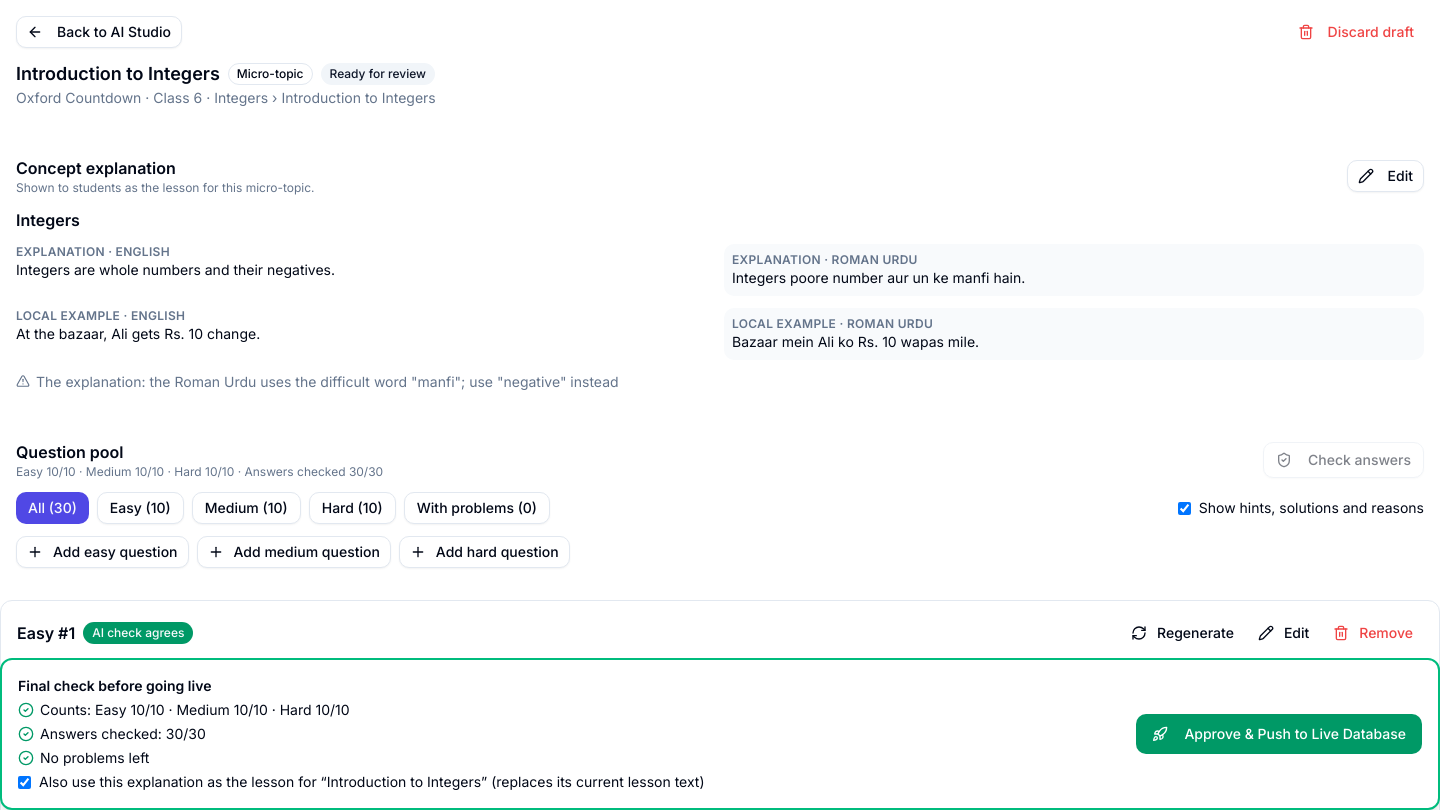
Test: AI draft review (Rule C) › unlocks approval only when every check passes, then pushes with the lesson choice
Expected: the button "Approve & Push to Live Database" is enabled, [1136, 714, 1422, 754]
Expected: the text "No problems left" is shown, [18, 749, 149, 766]
Click the checkbox labelled "Also use this explanation as the lesson": point(24, 782) [18, 776, 31, 788]
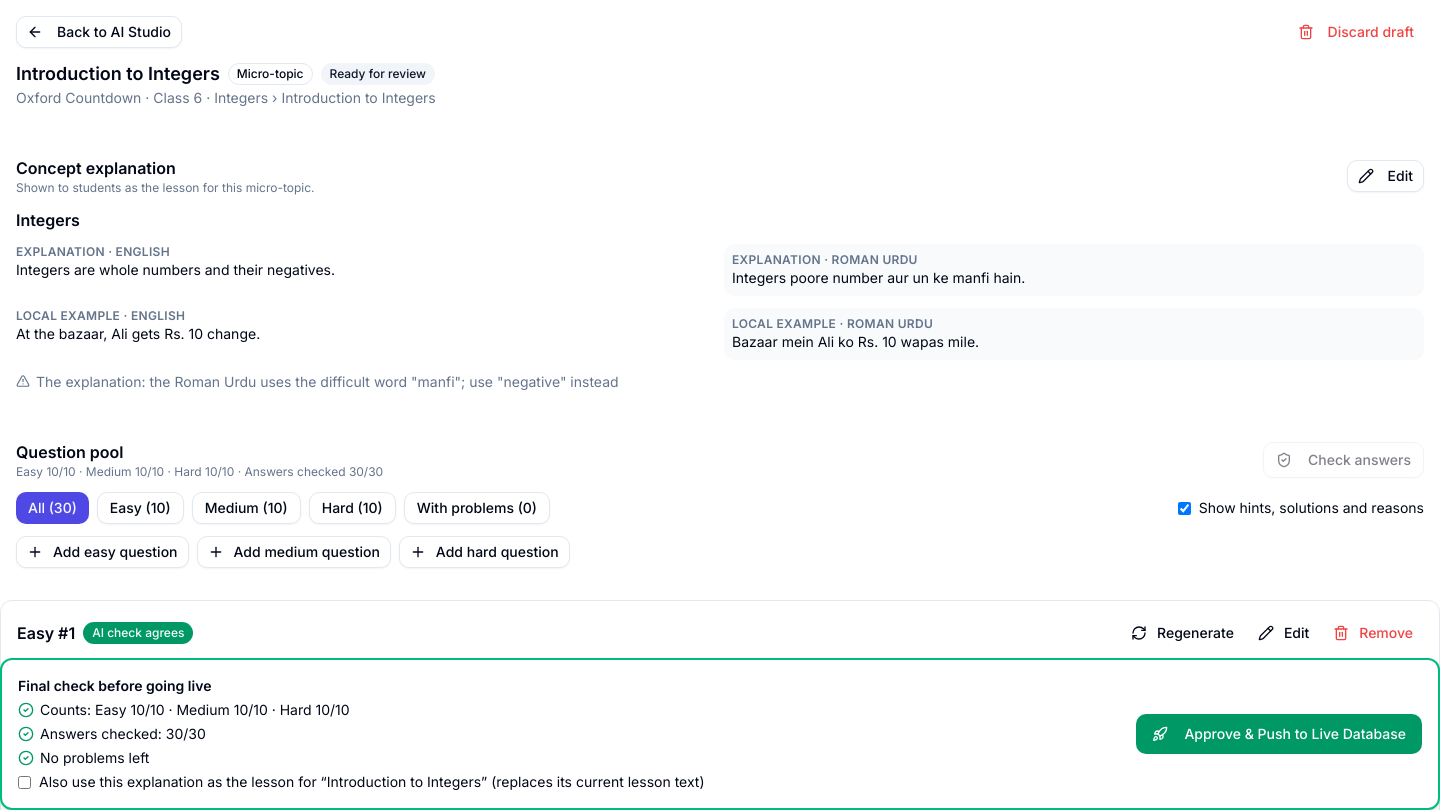
Click the button "Approve & Push to Live Database": point(1279, 734) [1136, 714, 1422, 754]
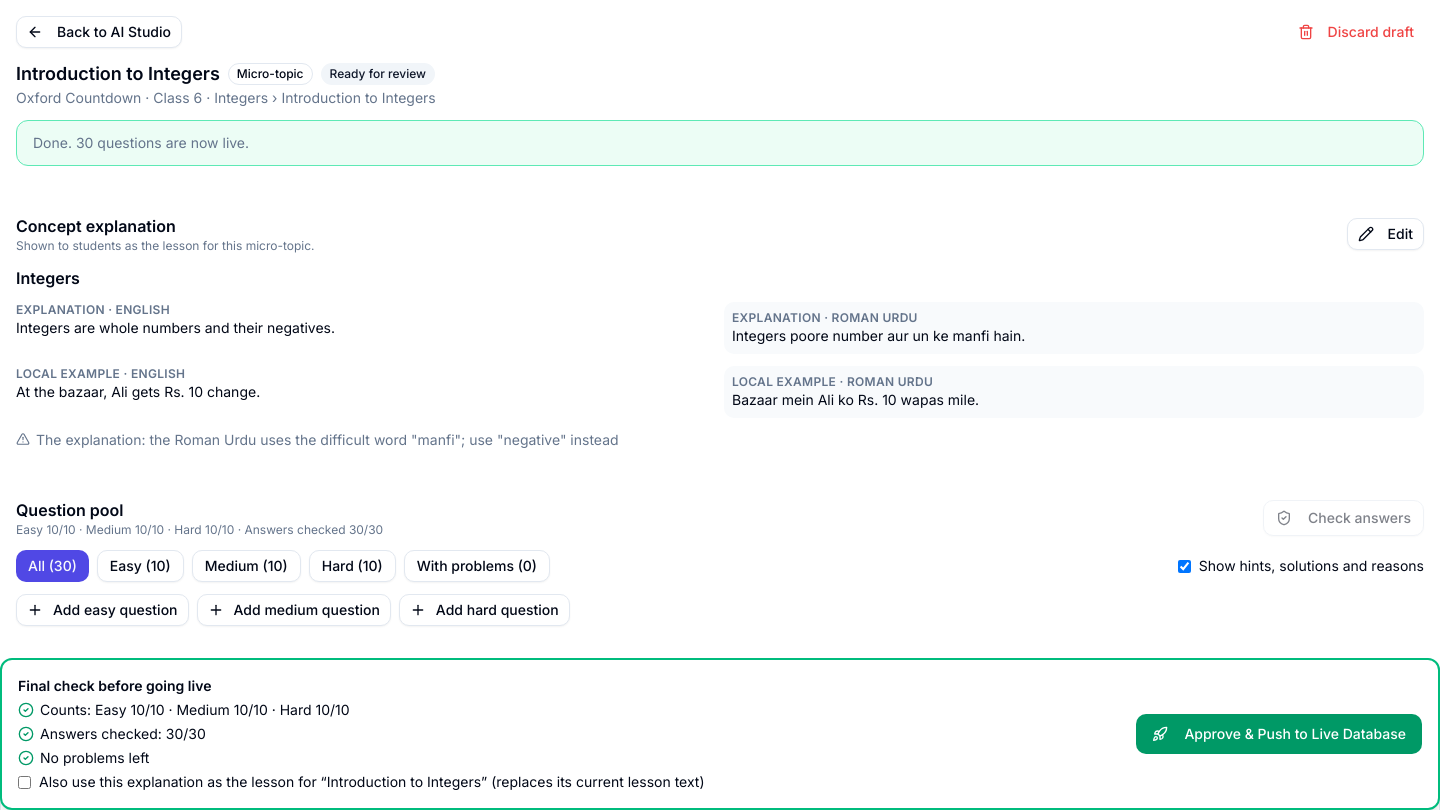
Expected: the text "Done. 30 questions are now live." is shown, [33, 134, 249, 151]
